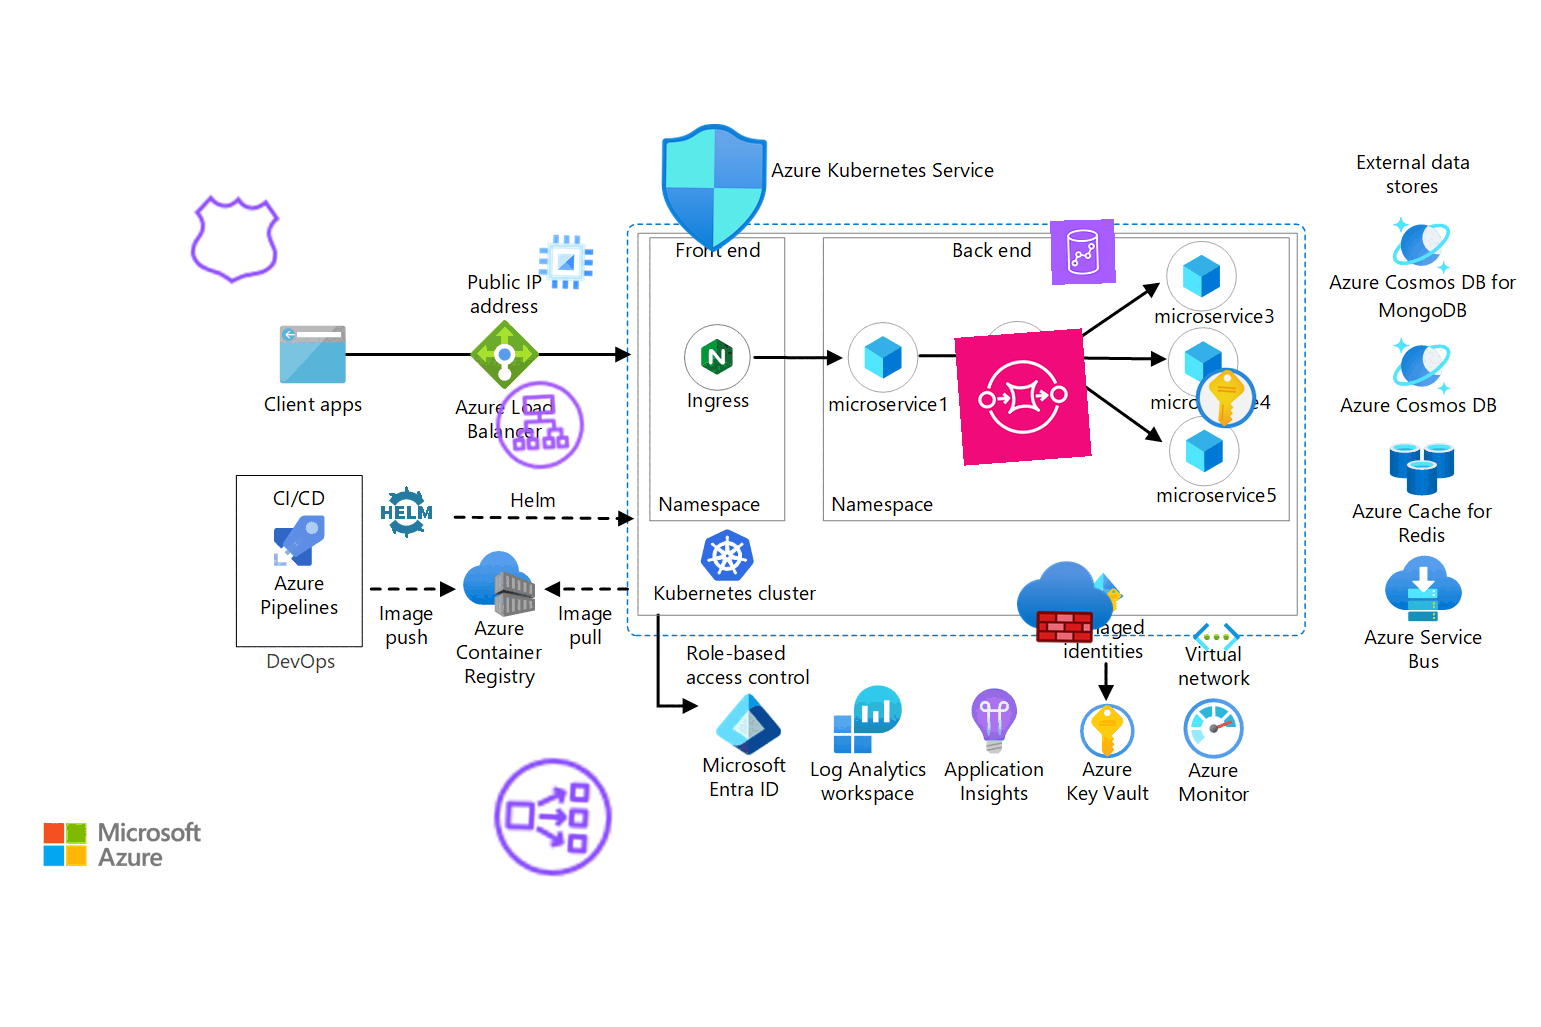aws_amazon_redshift: (1049, 219, 1116, 285)
aws_amazon_simple_queue_service: (954, 328, 1092, 467)
aws_elastic_load_balancing_application_load_balancer: (489, 374, 591, 476)
aws_elastic_load_balancing_network_load_balancer: (486, 750, 620, 884)
aws_route_53_hosted_zone: (184, 188, 288, 292)
azure_firewalls: (1016, 552, 1114, 651)
azure_key_vaults: (1192, 363, 1261, 433)
azure_network_security_groups: (648, 123, 779, 253)
gcp_compute_engine: (533, 229, 599, 295)
